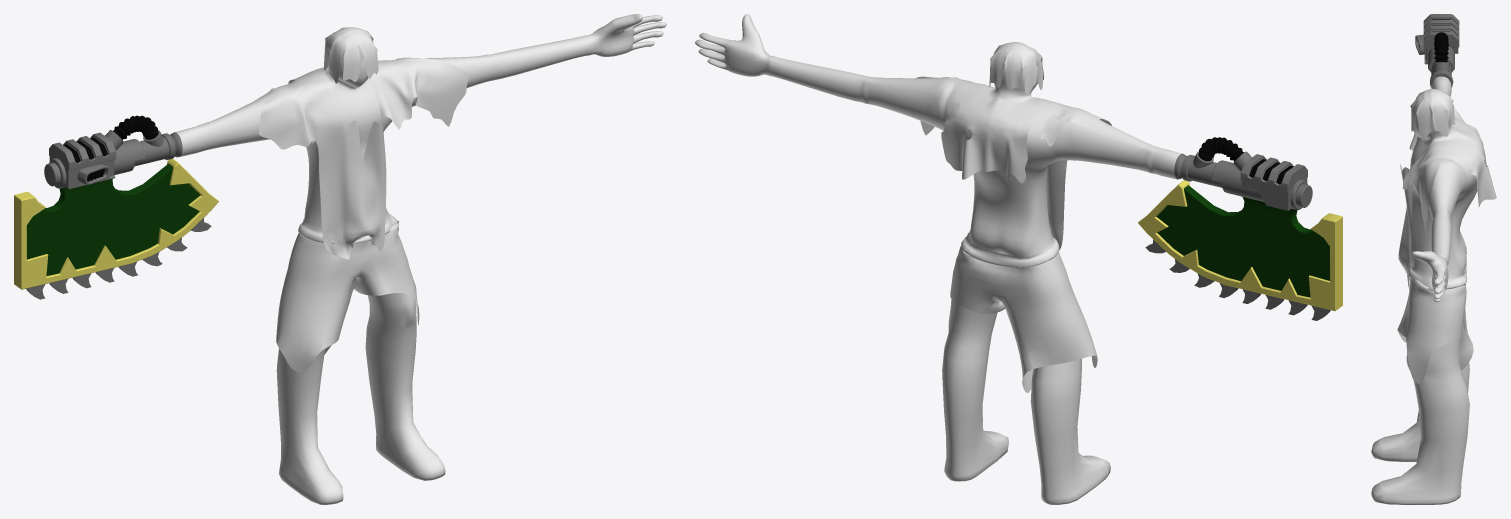
Rendered from Enemy_melee_weapon.fbx.
3 views of the same model, side by side, from view 1: azimuth 30°, elevation 25°; view 2: azimuth 150°, elevation 25°; view 3: azimuth 270°, elevation 25° (orthographic). The views are drawn at different scales.
Visible parts, largest first — view 1: Enemy; view 2: Enemy; view 3: Enemy.
Boxes of the visible parts, x1,y1,x2,y2 form: Enemy: (14,14,666,504); Enemy: (695,14,1342,504); Enemy: (1371,14,1496,504).
Size of the model in its own units: 4845 by 3148 by 924.
